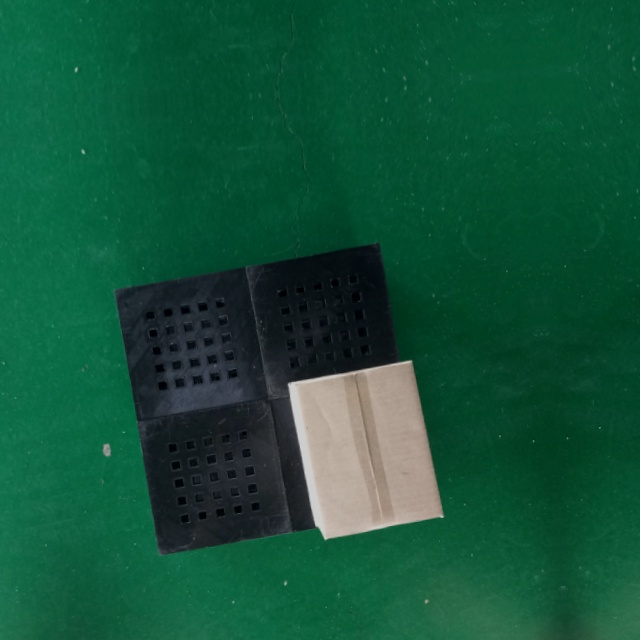box: (286, 357, 447, 544)
pallet: (103, 231, 435, 562)
